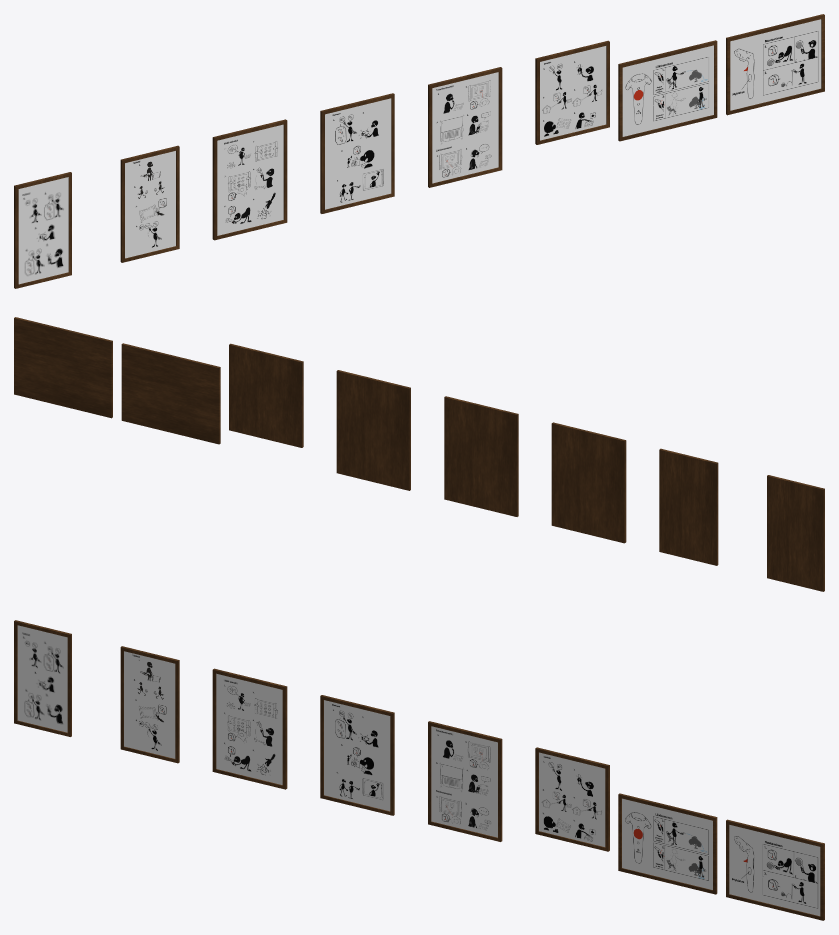
Rendered from tutoriaalit.fbx.
3 renders of one model, top to bottom at view 1: azimuth 30°, elevation 25°; view 2: azimuth 150°, elevation 25°; view 3: azimuth 330°, elevation 25°, orthographic.
Parts seen in each view (by area): view 1: lisaaesineita_tutoriaali, liikkuminen_tutoriaali, kamera_tutoriaali, kommentointi_tutoriaali, nostaminen_tutoriaali, osoitin_tutoriaali, tabletti_tutoriaali, tyokalut_tutoriaali; view 2: lisaaesineita_tutoriaali, liikkuminen_tutoriaali, kamera_tutoriaali, kommentointi_tutoriaali, nostaminen_tutoriaali, osoitin_tutoriaali, tabletti_tutoriaali, tyokalut_tutoriaali; view 3: lisaaesineita_tutoriaali, liikkuminen_tutoriaali, kommentointi_tutoriaali, kamera_tutoriaali, nostaminen_tutoriaali, osoitin_tutoriaali, tabletti_tutoriaali, tyokalut_tutoriaali.
Part boxes in pixels (x1=…): lisaaesineita_tutoriaali: x1=212, y1=119, x2=287, y2=240; liikkuminen_tutoriaali: x1=618, y1=40, x2=717, y2=141; kamera_tutoriaali: x1=320, y1=93, x2=394, y2=213; kommentointi_tutoriaali: x1=428, y1=67, x2=502, y2=187; nostaminen_tutoriaali: x1=726, y1=14, x2=824, y2=115; osoitin_tutoriaali: x1=535, y1=40, x2=609, y2=144; tabletti_tutoriaali: x1=120, y1=145, x2=179, y2=262; tyokalut_tutoriaali: x1=14, y1=172, x2=71, y2=288; lisaaesineita_tutoriaali: x1=551, y1=422, x2=626, y2=543; liikkuminen_tutoriaali: x1=121, y1=343, x2=220, y2=444; kamera_tutoriaali: x1=444, y1=396, x2=518, y2=516; kommentointi_tutoriaali: x1=336, y1=370, x2=410, y2=490; nostaminen_tutoriaali: x1=14, y1=317, x2=112, y2=418; osoitin_tutoriaali: x1=229, y1=343, x2=303, y2=447; tabletti_tutoriaali: x1=659, y1=448, x2=718, y2=565; tyokalut_tutoriaali: x1=767, y1=475, x2=824, y2=591; lisaaesineita_tutoriaali: x1=212, y1=668, x2=287, y2=789; liikkuminen_tutoriaali: x1=618, y1=793, x2=717, y2=894; kommentointi_tutoriaali: x1=428, y1=721, x2=502, y2=841; kamera_tutoriaali: x1=320, y1=695, x2=394, y2=815; nostaminen_tutoriaali: x1=726, y1=819, x2=824, y2=920; osoitin_tutoriaali: x1=535, y1=747, x2=609, y2=851; tabletti_tutoriaali: x1=120, y1=646, x2=179, y2=763; tyokalut_tutoriaali: x1=14, y1=620, x2=71, y2=736.
Bounding box in the file's own units: 376 × 45.4 × 1.2.
